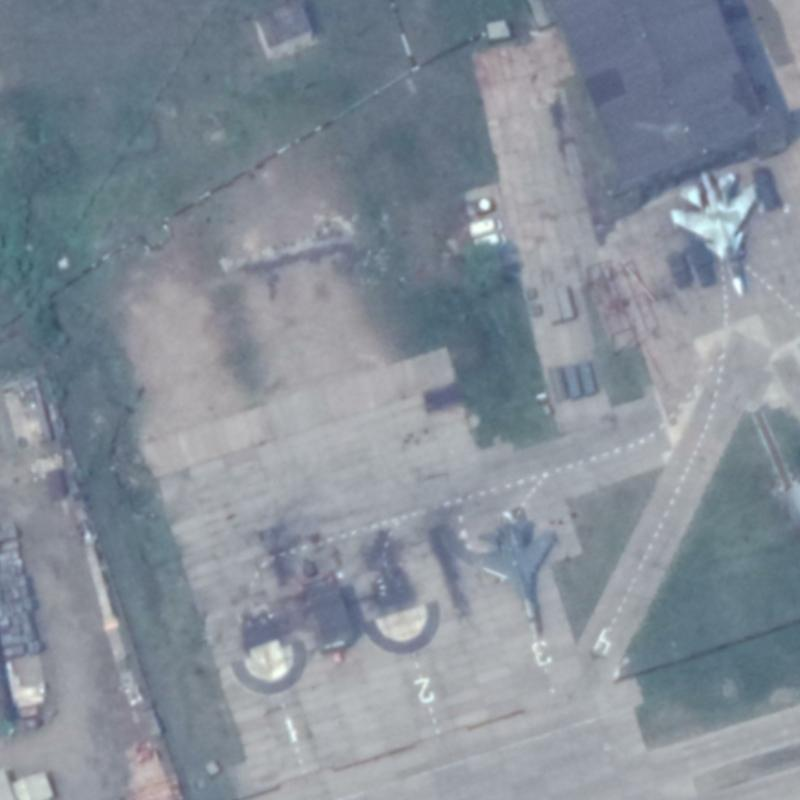A1: (472, 516, 560, 644)
A19: (666, 167, 762, 301)
